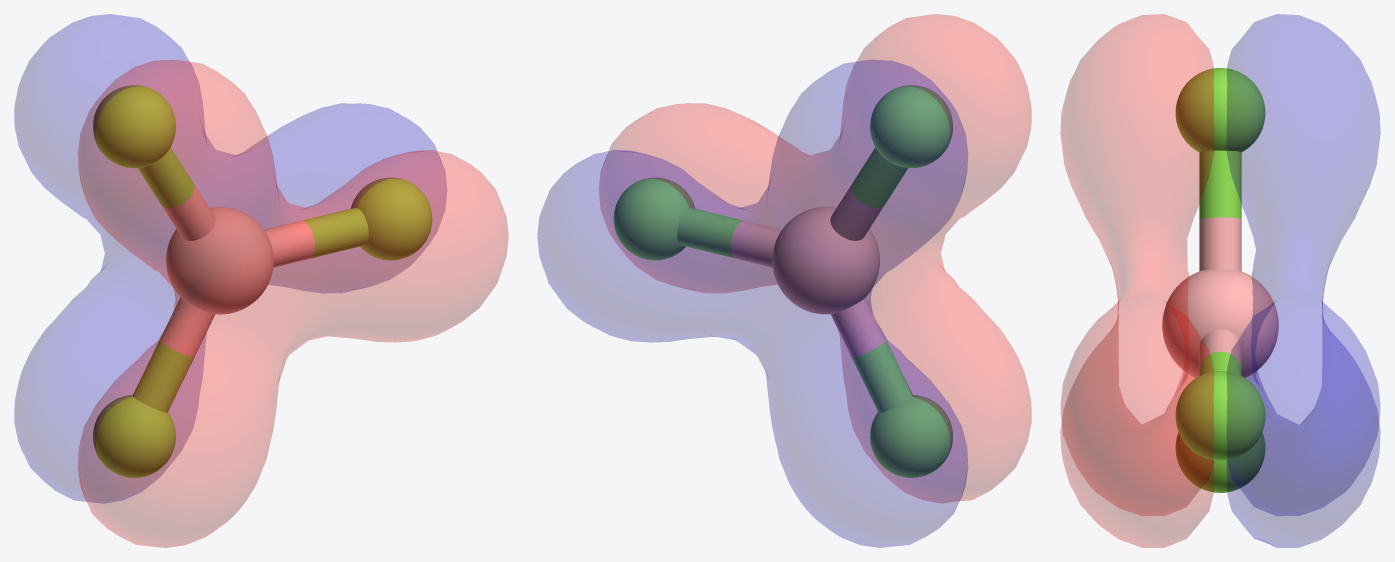
The picture shows the model from 3 angles, left to right: view 1: azimuth 30°, elevation 25°; view 2: azimuth 150°, elevation 25°; view 3: azimuth 270°, elevation 25°; orthographic projection. The views are drawn at different scales.
Parts seen in each view (by area): view 1: surface (×2), atoms, bonds; view 2: surface (×2), atoms, bonds; view 3: surface (×2), atoms, bonds.
Part boxes in pixels (x1,y1,x2,y2): surface (×2): (14,14,508,547); atoms: (93,85,432,477); bonds: (133,147,368,412); surface (×2): (537,14,1031,547); atoms: (613,85,952,477); bonds: (677,147,912,412); surface (×2): (1060,14,1380,547); atoms: (1162,68,1278,492); bonds: (1199,150,1241,375).
Size of the model in its own units: 3.7 by 4.03 by 2.28.
